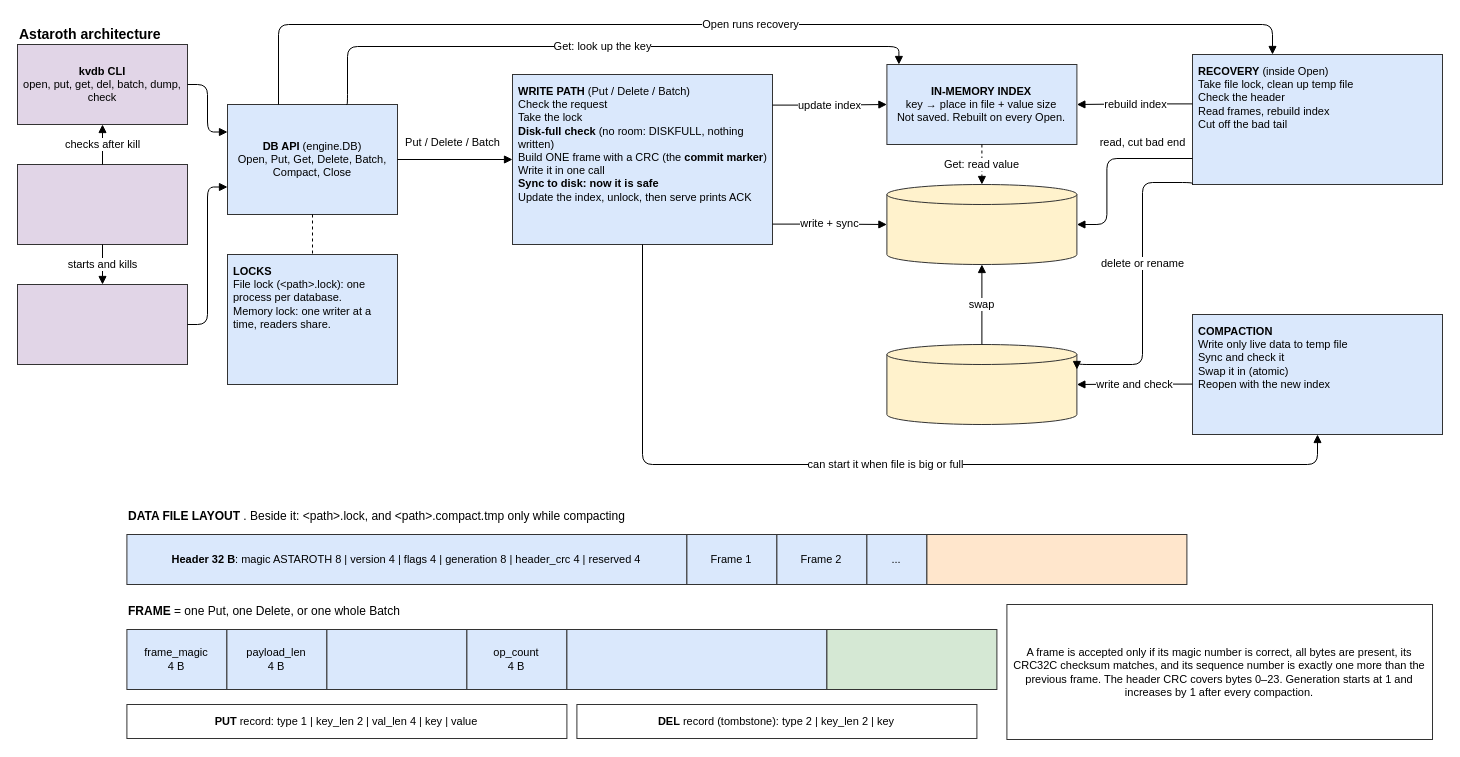
The diagram is 1460 pixels wide and 757 high, and some of its shapes have lost their labels. Here are the shapes that lost their labels. From the top down, the centre of each, then its label:
point (102, 204): torture tool runs serve as a child process and kills it
point (981, 224): DATA FILE header + frames (append only)
point (102, 324): kvdb serve reads requests, prints ACK
point (981, 384): TEMP FILE <path>.compact.tmp only while compacting
point (1056, 559): Frame N : a crash can only leave this one half-written (torn tail)
point (396, 659): seq 8 B TRANSACTION ID
point (696, 659): payload N B (up to 64 MiB) the records
point (911, 659): frame_crc 4 B COMMIT MARKER
